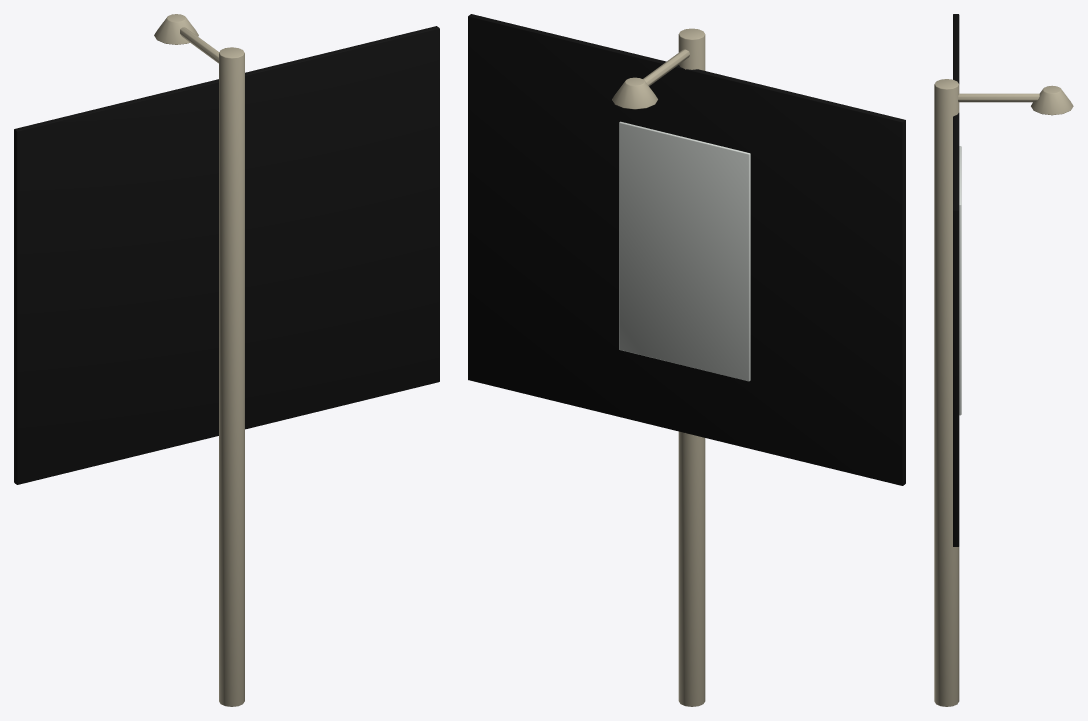
Rendered from SM_M37_VisibilityShield.glb.
3 views of the same model, side by side, from view 1: azimuth 30°, elevation 25°; view 2: azimuth 150°, elevation 25°; view 3: azimuth 270°, elevation 25° (orthographic). The views are drawn at different scales.
Parts seen in each view (by area): view 1: Shield_Board, SM_M37_VisibilityShield, Lantern_Marker_Bulb; view 2: Shield_Board, Shield_Target, SM_M37_VisibilityShield, Lantern_Marker_Bulb; view 3: SM_M37_VisibilityShield, Shield_Board, Lantern_Marker_Bulb, Shield_Target.
Part boxes in pixels (bbox=[...]): Shield_Board: bbox=[14, 26, 439, 484]; SM_M37_VisibilityShield: bbox=[180, 27, 244, 706]; Lantern_Marker_Bulb: bbox=[154, 14, 198, 44]; Shield_Board: bbox=[468, 14, 905, 485]; Shield_Target: bbox=[619, 121, 750, 381]; SM_M37_VisibilityShield: bbox=[643, 28, 705, 706]; Lantern_Marker_Bulb: bbox=[612, 77, 657, 109]; SM_M37_VisibilityShield: bbox=[934, 79, 1039, 706]; Shield_Board: bbox=[953, 14, 959, 546]; Lantern_Marker_Bulb: bbox=[1031, 85, 1073, 115]; Shield_Target: bbox=[959, 146, 961, 415].
Size of the model in its own units: 1.5 by 2.2 by 0.4491.
